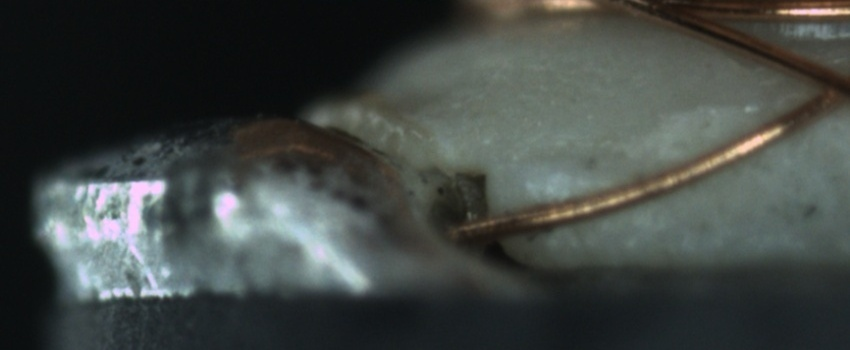CL: (796, 59, 850, 118)
DL: (514, 127, 641, 188)
